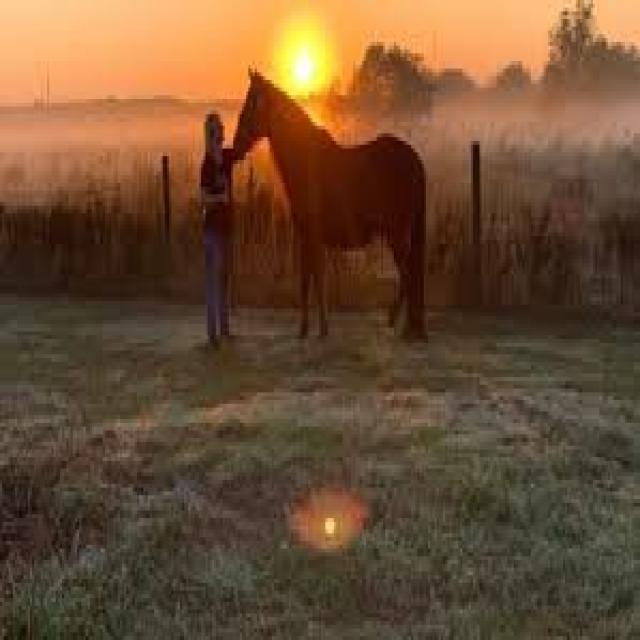Horse: (228, 62, 431, 358)
